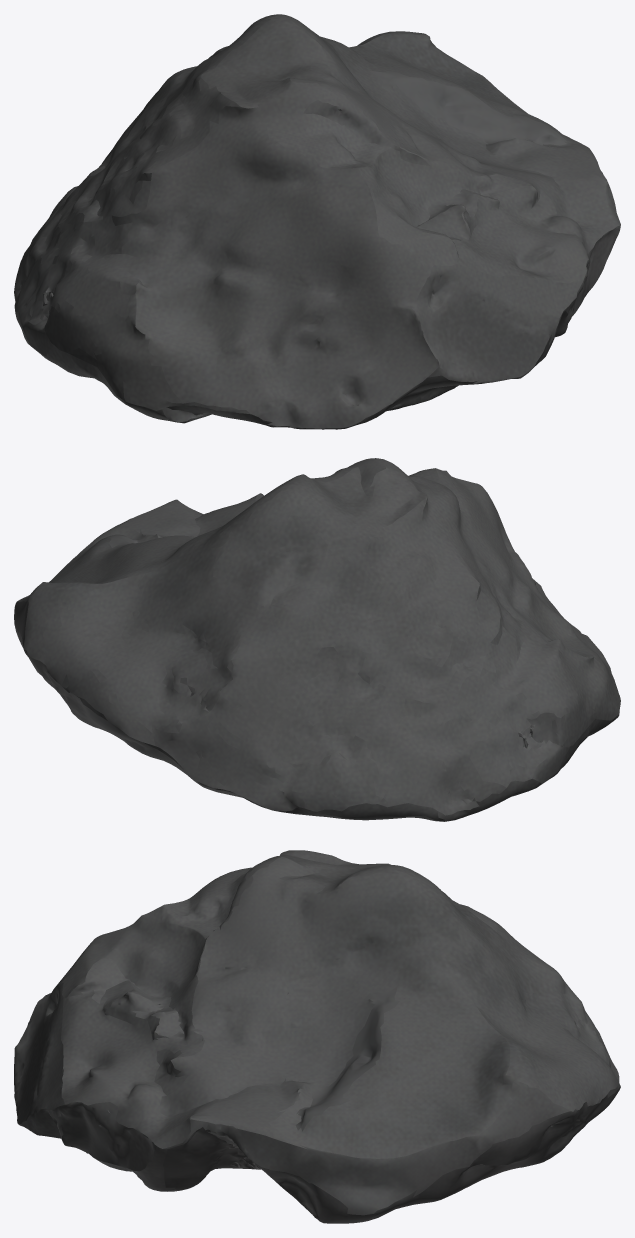
The picture shows the model from 3 angles, top to bottom: view 1: azimuth 30°, elevation 25°; view 2: azimuth 150°, elevation 25°; view 3: azimuth 270°, elevation 25°; orthographic projection. The views are drawn at different scales.
Parts seen in each view (by area): view 1: world; view 2: world; view 3: world.
Part boxes in pixels (x1,y1,x2,y2): world: (14,14,620,429); world: (14,458,620,821); world: (14,850,620,1223).
Size of the model in its own units: 1.2 by 0.586 by 1.2.
1 material, 1 textured.
